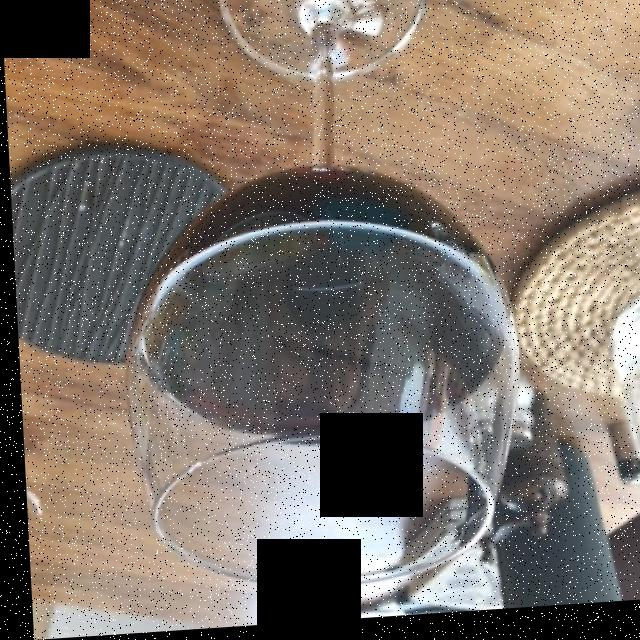wine-red: (111, 158, 500, 453)
